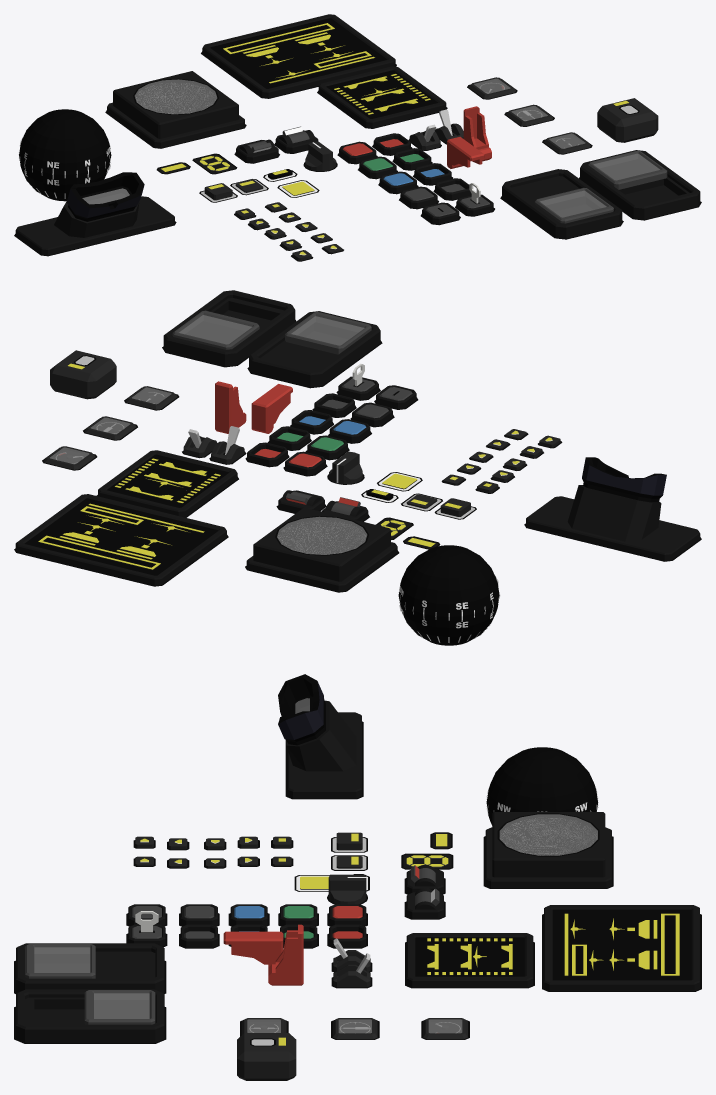
Rendered from placeholders.dae.
3 renders of one model, top to bottom at view 1: azimuth 30°, elevation 25°; view 2: azimuth 150°, elevation 25°; view 3: azimuth 270°, elevation 25°, orthographic. The views are drawn at different scales.
Parts seen in each view (by area): view 1: compass_base (×4), crane_base (×4), viewing_scope (×5), compass_ball, group_35 (×2), lift_base (×2), group_43 (×2), group_42 (×3), group_34 (×3), toggle_light, flip_switch_cover_on, flip_switch_cover_off (+5 smaller); view 2: compass_base (×4), crane_base (×3), viewing_scope (×4), compass_ball, group_43 (×2), group_35 (×2), lift_base (×2), group_34 (×3), group_42 (×3), toggle_light, flip_switch_cover_off, flip_switch_cover_on (+2 smaller); view 3: compass_base (×4), crane_base (×4), viewing_scope (×4), group_43 (×2), lift_base (×2), compass_ball, group_35 (×2), group_42 (×3), group_34 (×3), toggle_light, flip_switch_cover_off, flip_switch_cover_on (+2 smaller).
Boxes of the visible parts, x1=… form: compass_base (×4): x1=107, y1=71, x2=244, y2=147; crane_base (×4): x1=202, y1=14, x2=395, y2=98; viewing_scope (×5): x1=15, y1=172, x2=174, y2=255; compass_ball: x1=19, y1=109, x2=111, y2=201; group_35 (×2): x1=502, y1=169, x2=622, y2=238; lift_base (×2): x1=318, y1=66, x2=446, y2=128; group_43 (×2): x1=580, y1=150, x2=700, y2=219; group_42 (×3): x1=588, y1=150, x2=667, y2=189; group_34 (×3): x1=534, y1=188, x2=613, y2=223; toggle_light: x1=597, y1=98, x2=658, y2=142; flip_switch_cover_on: x1=463, y1=106, x2=491, y2=161; flip_switch_cover_off: x1=447, y1=136, x2=484, y2=168; compass_base (×4): x1=246, y1=507, x2=397, y2=591; crane_base (×3): x1=15, y1=494, x2=226, y2=585; viewing_scope (×4): x1=526, y1=457, x2=700, y2=560; compass_ball: x1=398, y1=545, x2=499, y2=645; group_43 (×2): x1=163, y1=290, x2=295, y2=366; group_35 (×2): x1=249, y1=311, x2=380, y2=387; lift_base (×2): x1=98, y1=450, x2=237, y2=517; group_34 (×3): x1=285, y1=312, x2=371, y2=354; group_42 (×3): x1=172, y1=310, x2=259, y2=349; toggle_light: x1=50, y1=350, x2=116, y2=399; flip_switch_cover_off: x1=251, y1=384, x2=292, y2=433; flip_switch_cover_on: x1=215, y1=381, x2=246, y2=433; compass_base (×4): x1=485, y1=812, x2=611, y2=888; crane_base (×4): x1=544, y1=905, x2=699, y2=991; viewing_scope (×4): x1=278, y1=674, x2=361, y2=798; group_43 (×2): x1=16, y1=989, x2=164, y2=1042; lift_base (×2): x1=406, y1=933, x2=533, y2=987; compass_ball: x1=486, y1=747, x2=597, y2=825; group_35 (×2): x1=16, y1=943, x2=164, y2=993; group_42 (×3): x1=84, y1=990, x2=155, y2=1024; group_34 (×3): x1=25, y1=944, x2=95, y2=978; toggle_light: x1=237, y1=1033, x2=296, y2=1080; flip_switch_cover_off: x1=223, y1=931, x2=283, y2=966; flip_switch_cover_on: x1=268, y1=924, x2=303, y2=985.
Bounding box in the file's own units: 88.32 × 72.85 × 14.53.
